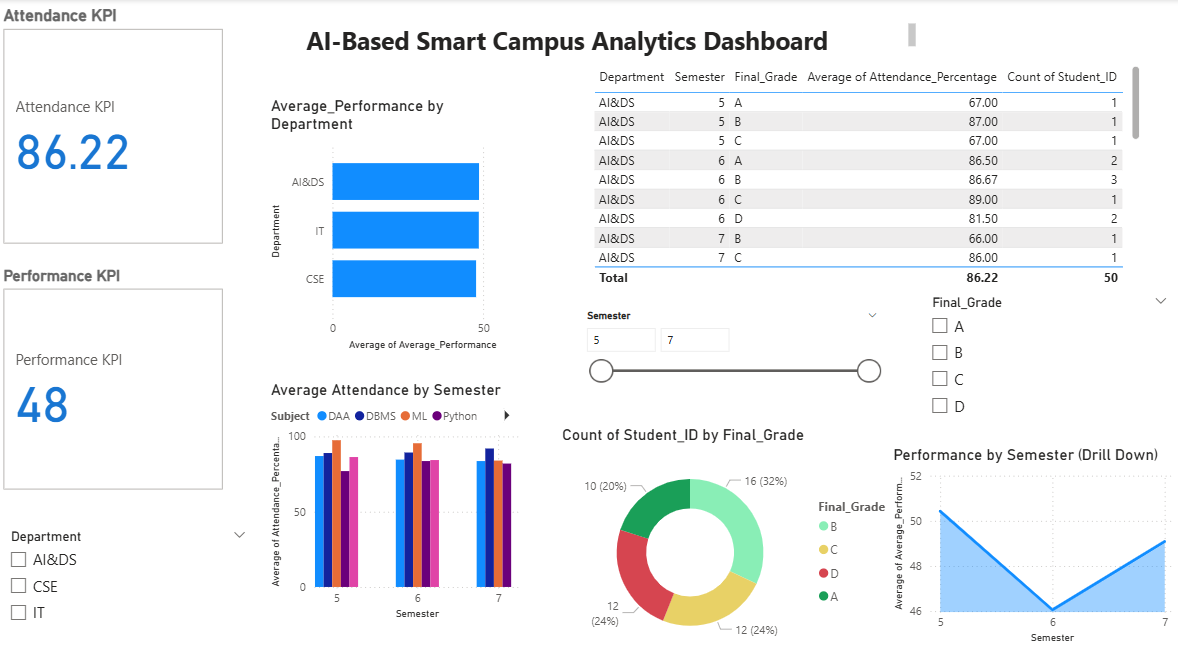

Layout of this report page (visuals, bound fields, positions):
{"tool":"powerbi","page":{"name":"Page 1","canvas":[1280,720],"ordinal":0},"visuals":[{"type":"cardVisual","title":"Attendance KPI","fields":{"Data":["Avg(5 student_performance.Attendance_Percentage)"]},"box":[0,7.1,248.6,264.3],"z":0},{"type":"cardVisual","title":"Performance KPI","fields":{"Data":["Avg(5 student_performance.Average_Performance)"]},"box":[0,290,248,248],"z":1000},{"type":"slicer","fields":{"Values":["5 student_performance.Department"]},"box":[0,570,280,150],"z":2000},{"type":"slicer","fields":{"Values":["5 student_performance.Semester"]},"box":[625.7,332.9,340,104.3],"z":3000},{"type":"clusteredBarChart","title":"Average_Performance by Department","fields":{"Category":["5 student_performance.Department"],"Y":["Avg(5 student_performance.Average_Performance)"]},"box":[290,105.7,280,280],"z":4000},{"type":"clusteredColumnChart","title":"Average Attendance by Semester","fields":{"Category":["5 student_performance.Semester"],"Y":["Avg(5 student_performance.Attendance_Percentage)"],"Series":["5 student_performance.Subject"]},"box":[290,414.3,280,264.3],"z":5000},{"type":"tableEx","fields":{"Values":["5 student_performance.Department","5 student_performance.Semester","5 student_performance.Final_Grade","Avg(5 student_performance.Attendance_Percentage)","CountNonNull(5 student_performance.Student_ID)"]},"box":[640,67.1,602.9,248.6],"z":6000},{"type":"donutChart","fields":{"Category":["5 student_performance.Final_Grade"],"Y":["CountNonNull(5 student_performance.Student_ID)"]},"box":[605.7,462.9,378.6,257.1],"z":7000},{"type":"slicer","fields":{"Values":["5 student_performance.Final_Grade"]},"box":[1000,315.7,280,147.1],"z":8000},{"type":"areaChart","title":"Performance by Semester (Drill Down)","fields":{"Category":["5 student_performance.Department","5 student_performance.Semester","5 student_performance.Student_ID"],"Y":["Avg(5 student_performance.Average_Performance)"]},"box":[965.7,484.3,314.3,220],"z":9000},{"type":"textbox","box":[328.6,21.4,671.4,45.7],"z":11000}]}

Visuals, with their boxes in screenshot pixels (x1, y1, x2, y2):
"Attendance KPI" cardVisual: rect(95, 0, 313, 219)
"Performance KPI" cardVisual: rect(95, 235, 312, 453)
slicer - 5 student_performance.Department: rect(95, 481, 340, 612)
slicer - 5 student_performance.Semester: rect(643, 273, 940, 364)
"Average_Performance by Department" clusteredBarChart: rect(349, 74, 594, 319)
"Average Attendance by Semester" clusteredColumnChart: rect(349, 344, 594, 576)
tableEx - 5 student_performance.Department x 5 student_performance.Semester: rect(655, 40, 1177, 258)
donutChart - 5 student_performance.Final_Grade x CountNonNull(5 student_performance.Student_ID): rect(625, 387, 957, 612)
slicer - 5 student_performance.Final_Grade: rect(971, 258, 1177, 387)
"Performance by Semester (Drill Down)" areaChart: rect(940, 406, 1177, 598)
textbox: rect(383, 0, 971, 40)
